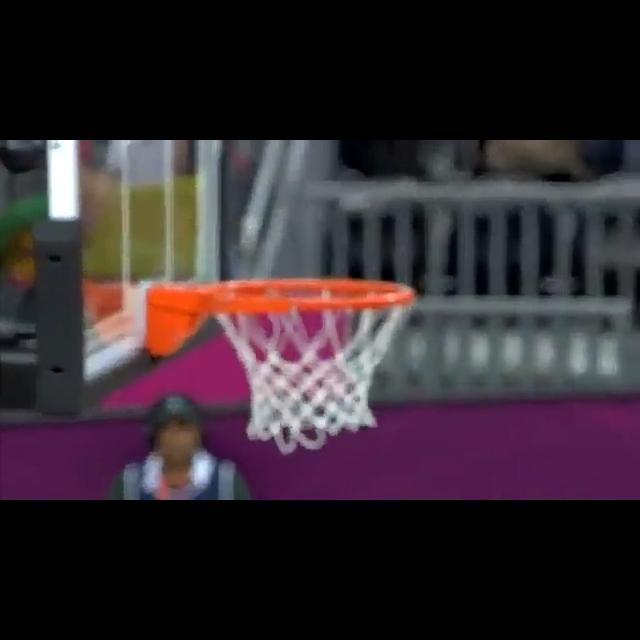hoop: (209, 278, 421, 451)
